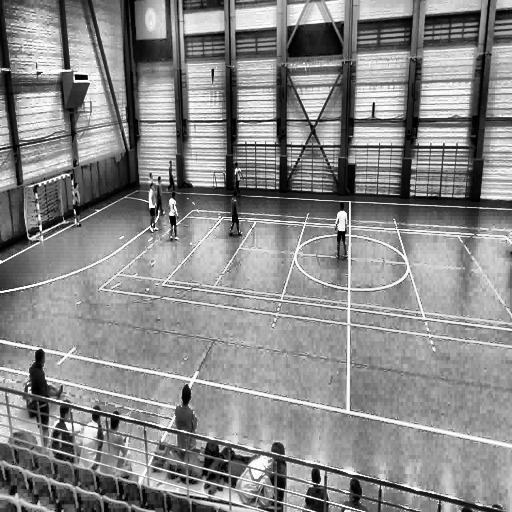player: (335, 200, 348, 259), (147, 177, 159, 234), (229, 190, 243, 237), (167, 188, 179, 242), (154, 173, 166, 216), (72, 182, 82, 227), (232, 159, 243, 198), (167, 157, 176, 194), (148, 170, 155, 194)
